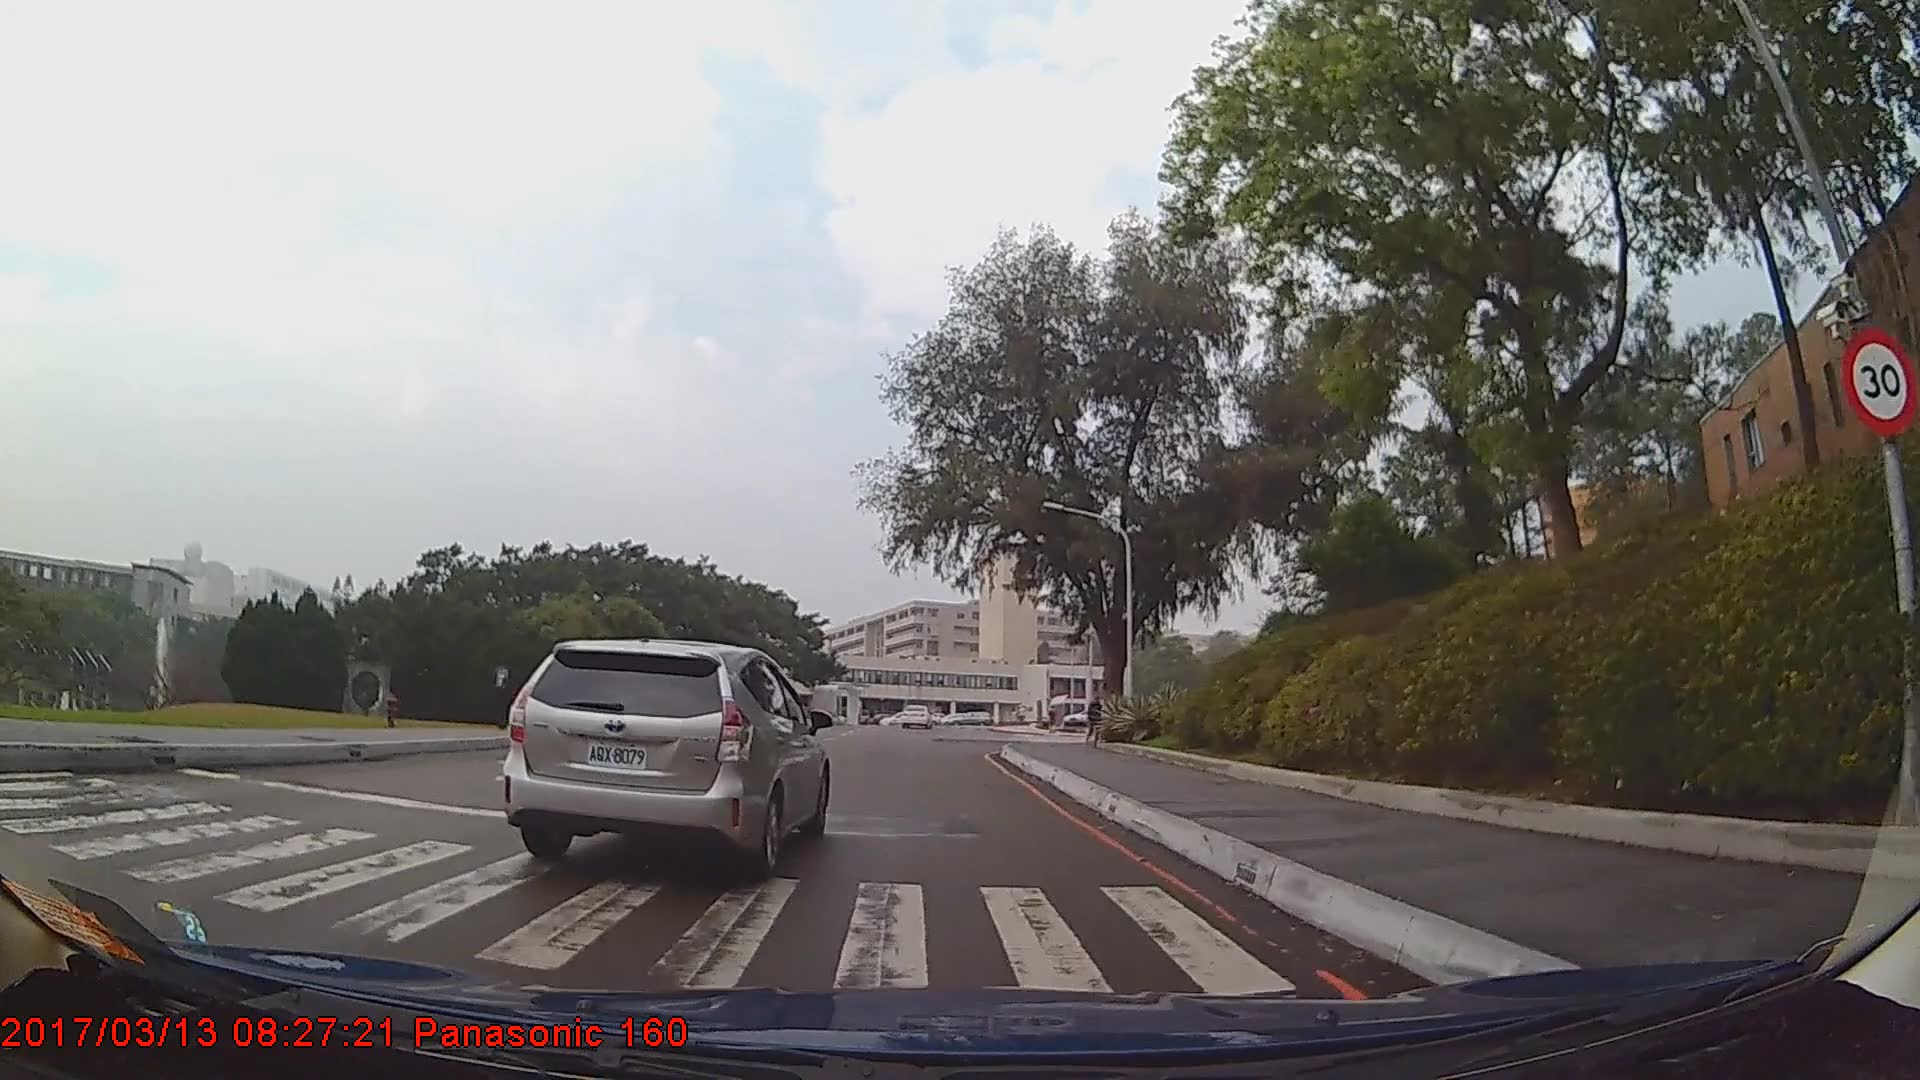pedestrian: (485, 658, 516, 731), (1086, 694, 1106, 748)
vehicle: (499, 635, 830, 881), (897, 704, 931, 731)
